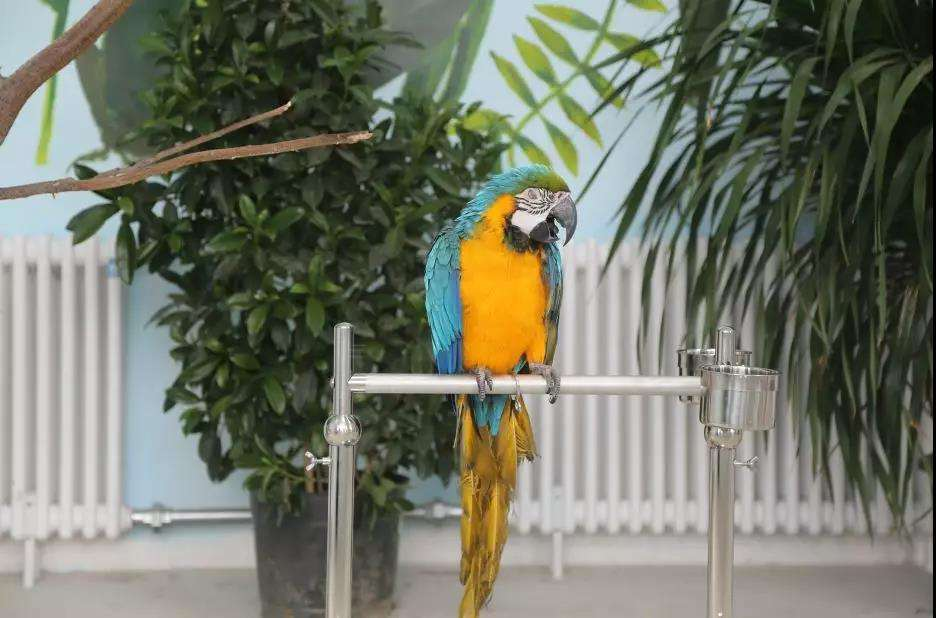bird: (427, 162, 582, 373)
